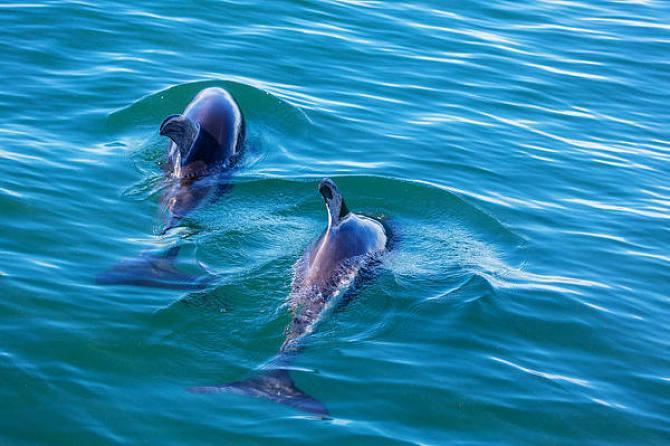fish: (182, 175, 394, 424), (97, 84, 244, 299)
